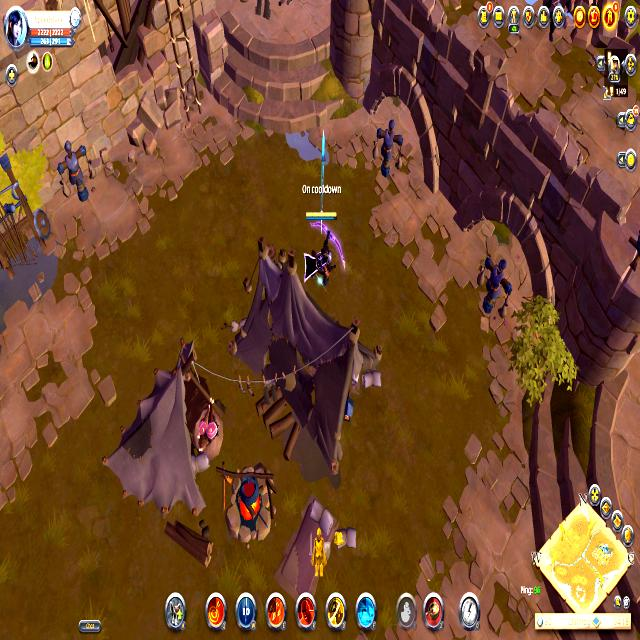red: (304, 206, 345, 300)
